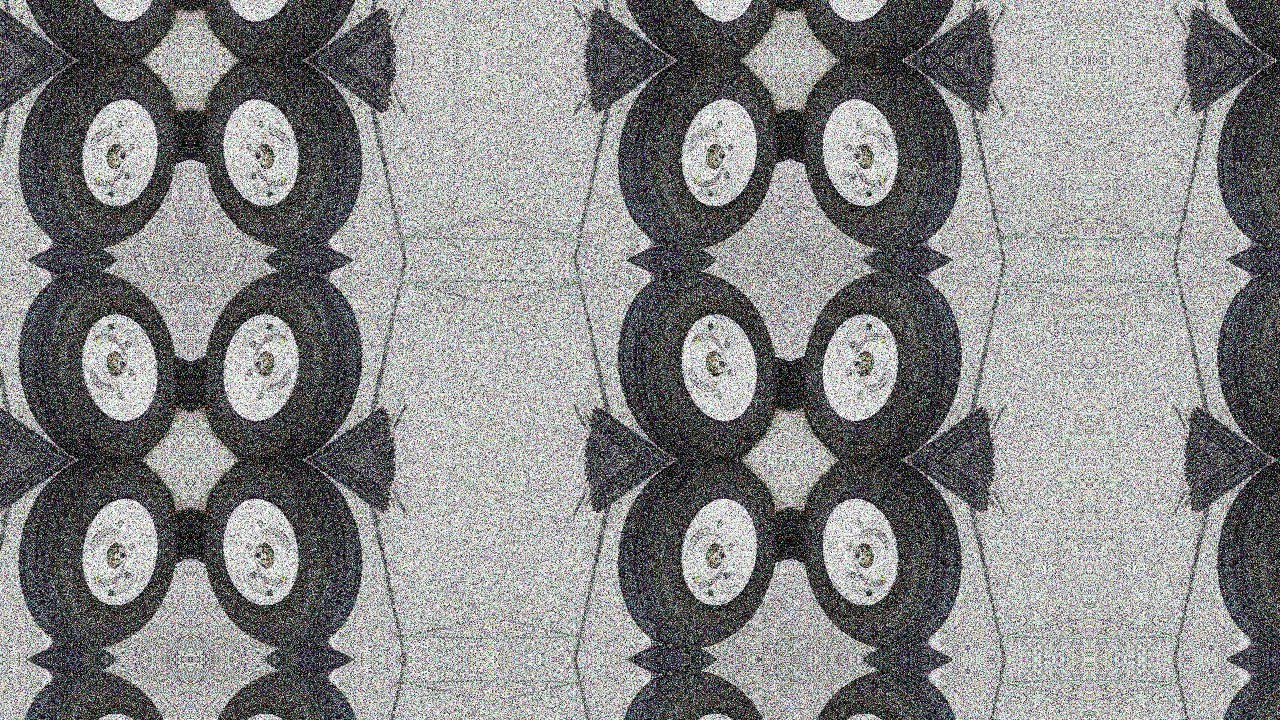chock: (240, 60, 407, 129), (573, 60, 740, 129), (840, 60, 1007, 129), (240, 391, 407, 460), (573, 391, 740, 460), (840, 391, 1007, 460), (240, 460, 407, 529), (573, 460, 740, 529), (840, 460, 1007, 529), (240, 0, 407, 60), (573, 0, 740, 60), (840, 0, 1007, 60), (0, 60, 140, 129), (0, 391, 140, 460), (0, 460, 140, 529), (0, 0, 140, 60), (1173, 60, 1280, 129), (1173, 391, 1280, 460), (1173, 460, 1280, 529), (1173, 0, 1280, 60), (132, 80, 190, 178), (190, 80, 248, 178), (732, 80, 790, 178), (790, 80, 848, 178), (132, 342, 190, 440), (190, 342, 248, 440), (732, 342, 790, 440), (790, 342, 848, 440), (132, 480, 190, 578), (190, 480, 248, 578), (732, 480, 790, 578), (790, 480, 848, 578), (132, 0, 190, 40), (190, 0, 248, 40), (732, 0, 790, 40), (790, 0, 848, 40)
wheel: (190, 60, 383, 256), (597, 60, 790, 256), (790, 60, 983, 256), (190, 264, 383, 460), (597, 264, 790, 460), (790, 264, 983, 460), (190, 460, 383, 656), (597, 460, 790, 656), (790, 460, 983, 656), (0, 60, 190, 256), (0, 264, 190, 460), (0, 460, 190, 656), (1197, 60, 1280, 256), (1197, 264, 1280, 460), (1197, 460, 1280, 656), (190, 0, 383, 60), (597, 0, 790, 60), (790, 0, 983, 60), (0, 0, 190, 60), (190, 664, 383, 720), (597, 664, 790, 720), (790, 664, 983, 720), (0, 664, 190, 720), (1197, 0, 1280, 60), (1197, 664, 1280, 720)
